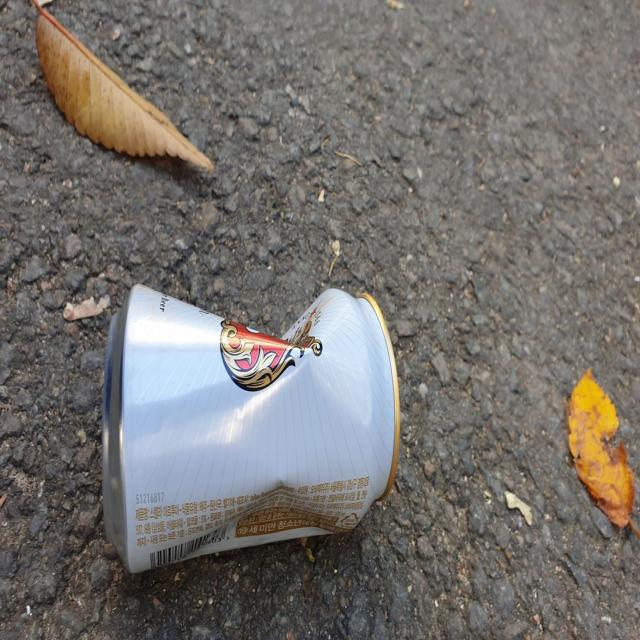can: (102, 284, 400, 573)
